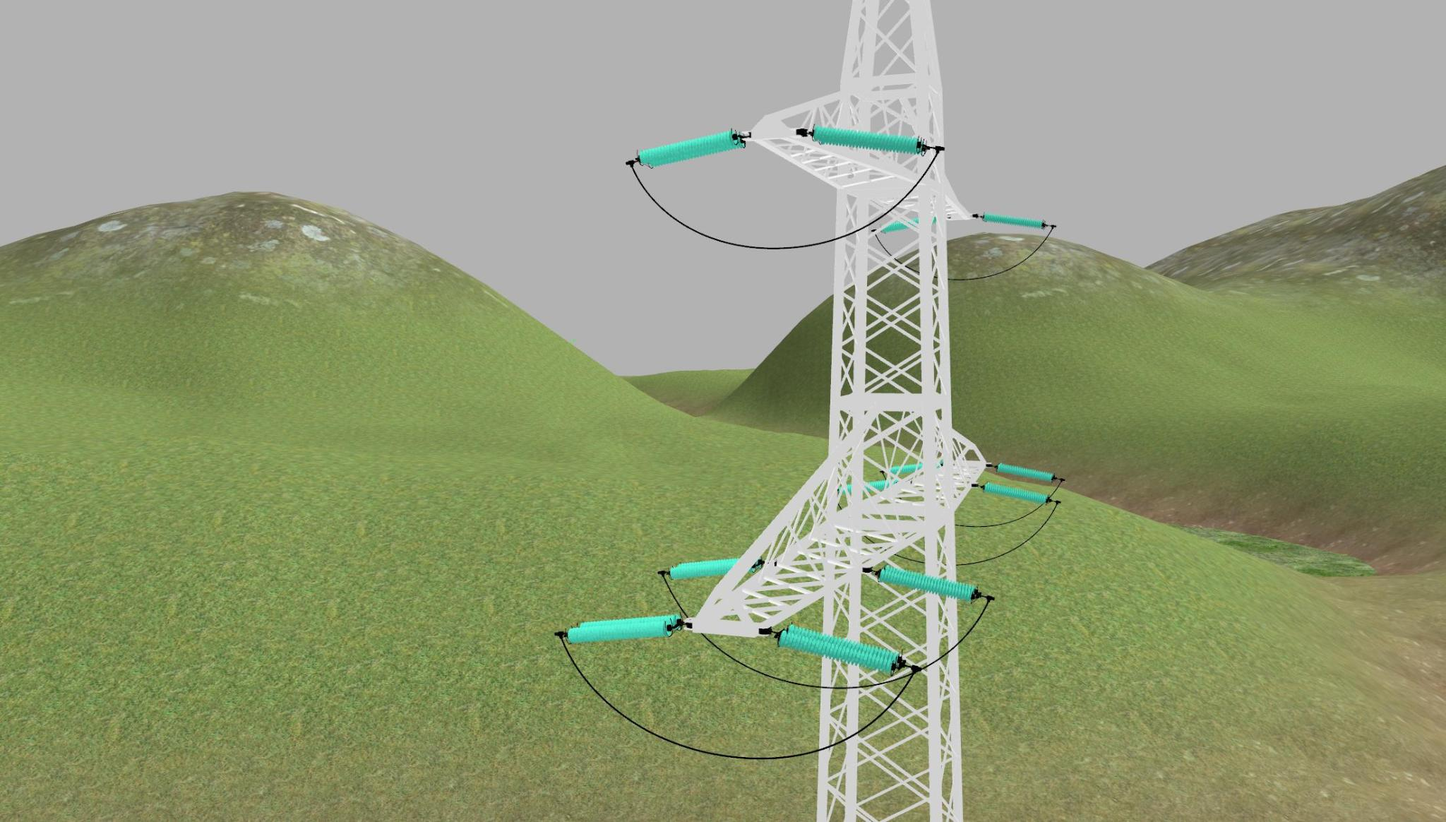tower: (685, 0, 991, 822)
